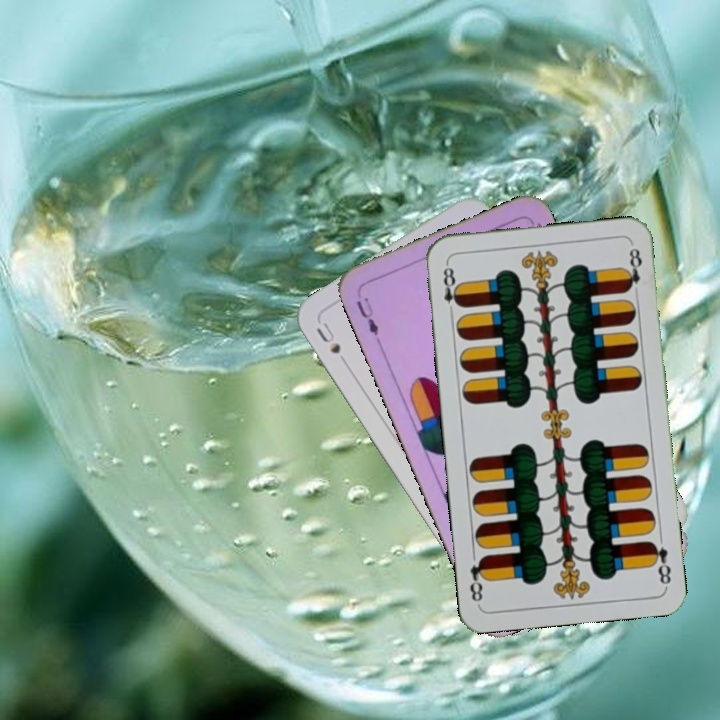E8: (439, 259, 464, 318), (646, 537, 674, 589)
EU: (352, 293, 381, 338)
SU: (312, 318, 344, 357)
